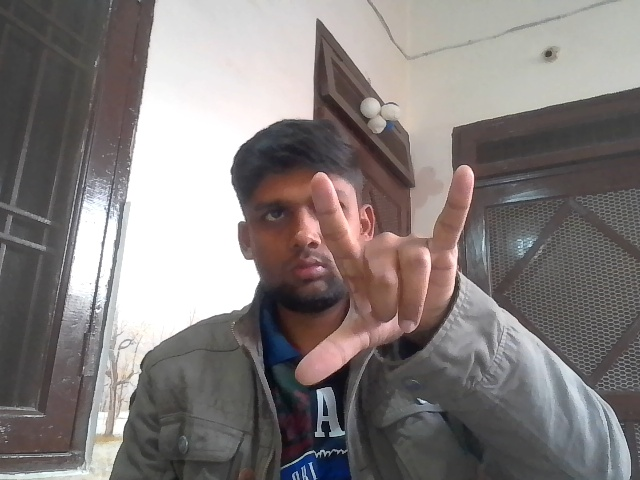ILoveYou: (279, 154, 500, 390)
